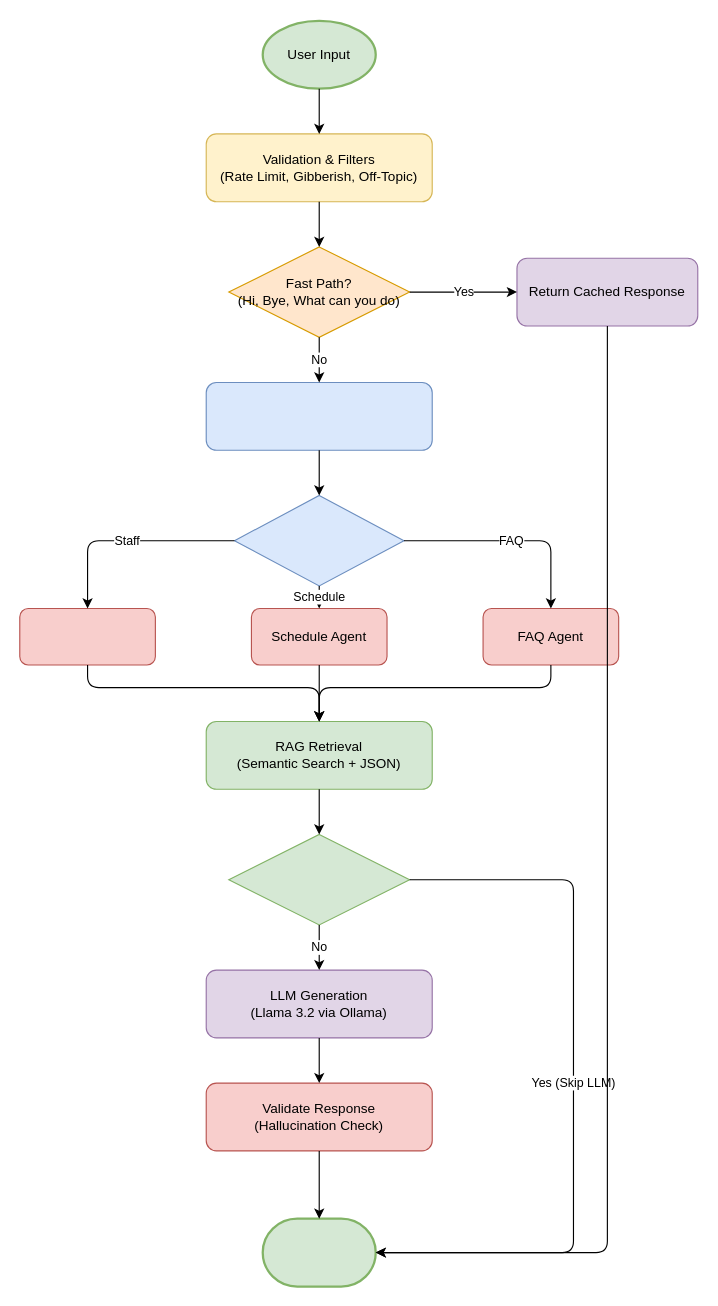
Image size: 718x1306. Some labels were removed from this diagram. The shapes that lost their labels are listed below. From the top down, each one's centre as x and y in pixels, then its label:
At (318,415): "Intent Detection (NLP + Keywords)".
At (318,540): "Agent Selection".
At (87,636): "Staff Agent".
At (319,879): "Direct Answer? (High Confidence Fact)".
At (318,1252): "Return Response".
